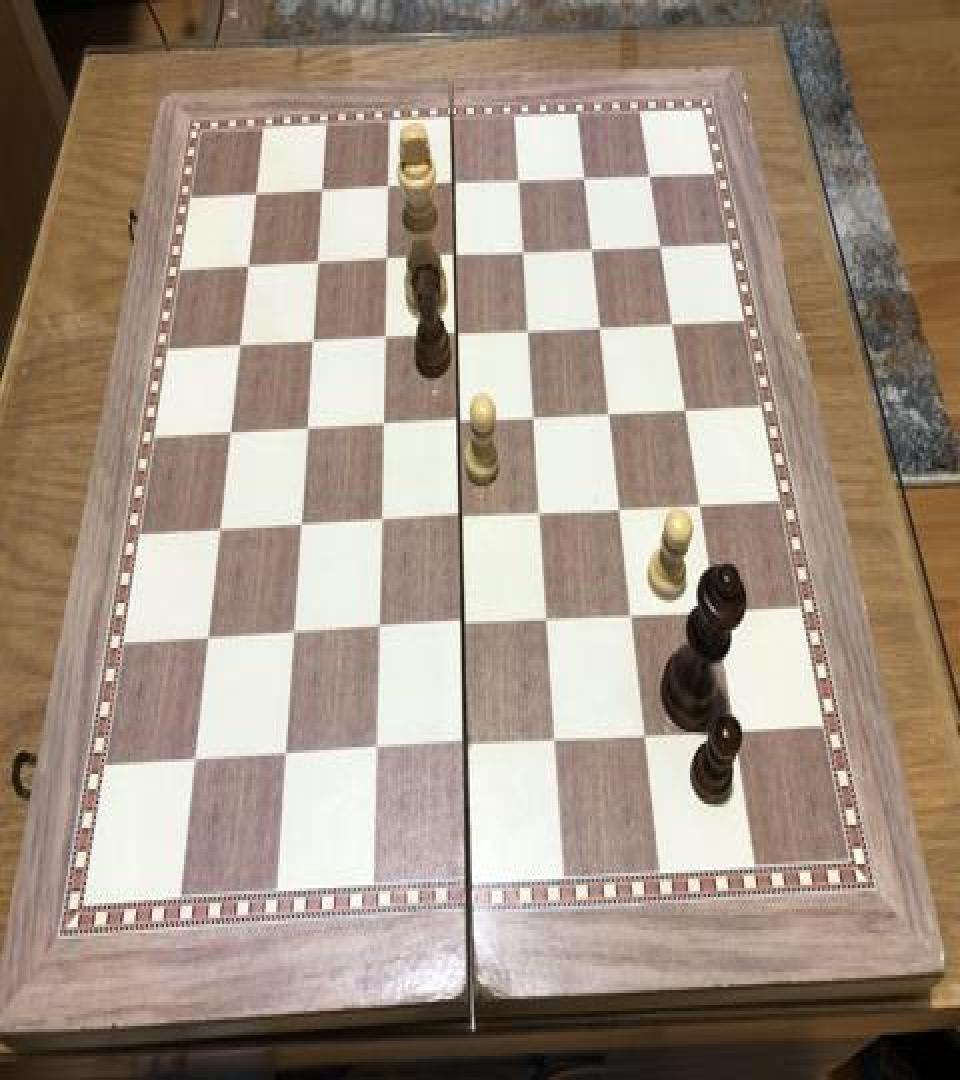xcorner: (704, 595, 728, 632), (196, 622, 220, 659), (273, 739, 297, 776), (639, 156, 663, 192), (573, 159, 597, 195), (508, 162, 532, 198), (442, 165, 466, 201), (376, 168, 400, 204), (310, 171, 334, 207), (244, 176, 268, 212), (650, 228, 674, 264), (581, 231, 605, 267), (512, 234, 536, 270), (443, 237, 467, 273), (374, 242, 398, 278), (305, 244, 329, 280), (236, 248, 260, 284), (661, 306, 685, 342), (589, 309, 613, 345), (517, 314, 541, 350), (445, 316, 469, 352), (372, 321, 396, 357), (300, 324, 324, 360), (227, 327, 251, 363), (674, 393, 698, 429), (598, 396, 622, 432), (522, 400, 546, 436), (446, 404, 470, 440), (370, 408, 394, 444), (294, 411, 318, 447), (218, 416, 242, 452), (688, 489, 712, 525), (609, 494, 633, 530), (529, 496, 553, 532), (448, 501, 472, 537), (368, 506, 392, 542), (288, 508, 312, 544), (207, 513, 231, 549), (620, 600, 644, 636), (535, 604, 559, 640), (451, 609, 475, 645), (366, 614, 390, 650), (281, 618, 305, 654), (722, 716, 746, 752), (632, 720, 656, 756), (543, 726, 567, 762), (453, 730, 477, 766), (363, 735, 387, 771), (183, 744, 207, 780)
